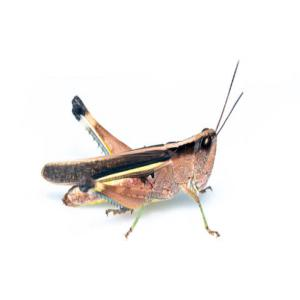locust: (55, 94, 236, 236)
